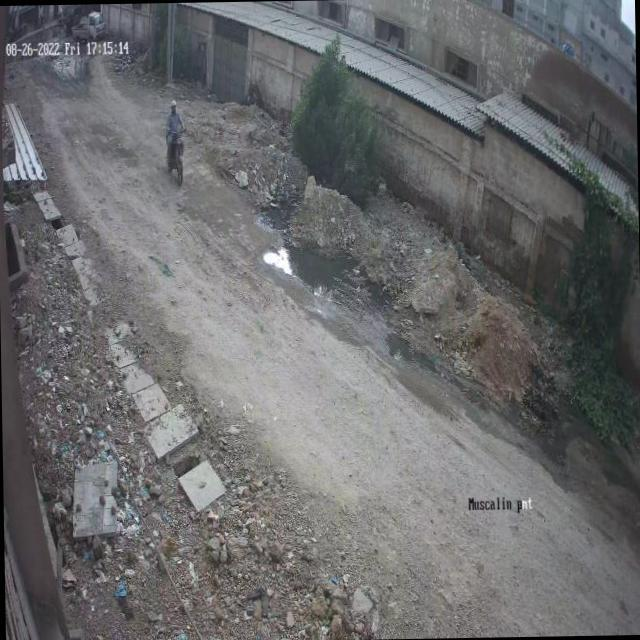person: (162, 99, 191, 152)
